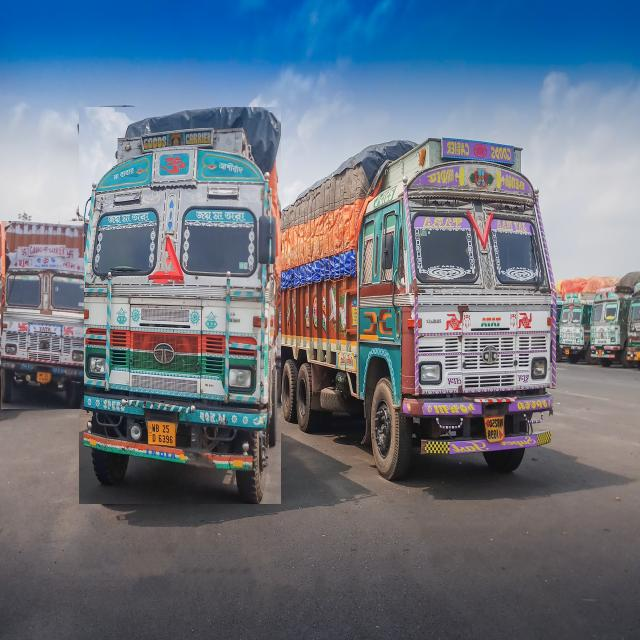truck: (279, 139, 556, 480), (79, 107, 281, 504), (0, 221, 84, 409), (559, 278, 619, 364), (590, 272, 640, 368)
